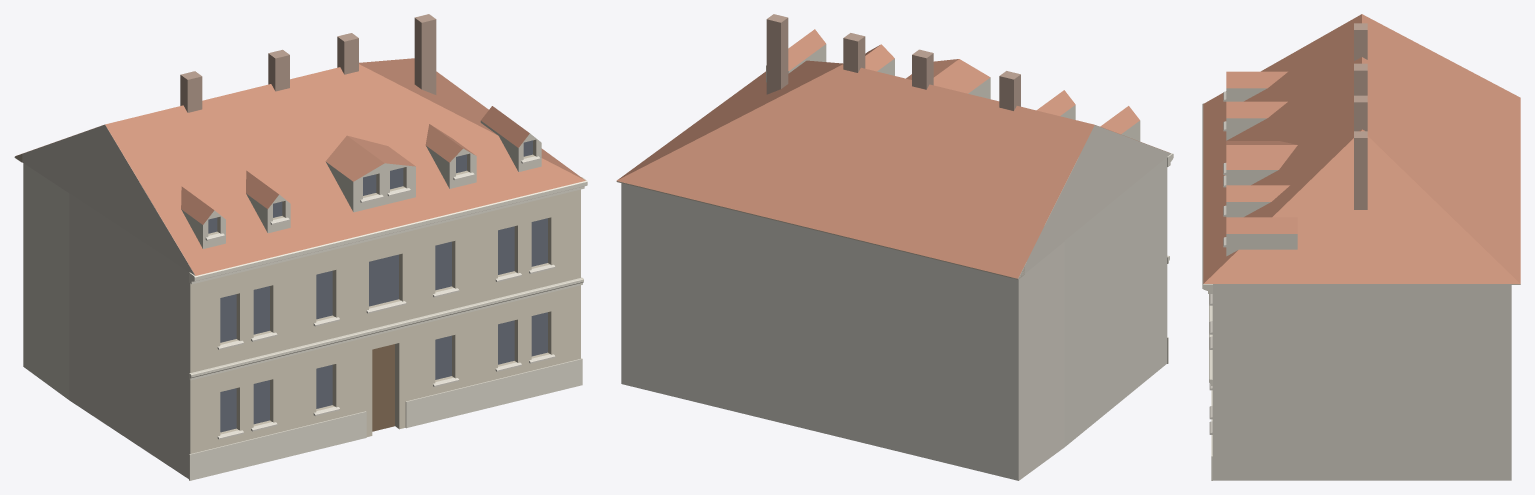
3 views of the same model, side by side, from view 1: azimuth 30°, elevation 25°; view 2: azimuth 150°, elevation 25°; view 3: azimuth 270°, elevation 25° (orthographic). The views are drawn at different scales.
Visible parts, largest first — view 1: CP_410_Masonry, CP_410_Roof, CP_410_Gable_L_gable, CP_410_Cornice_plinth_1, CP_410_Cornice_plinth_0, CP_410_Dormer_D_c, CP_410_Cornice_main_0, CP_410_Cornice_string_0, CP_410_Dormer_D_d, CP_410_Dormer_D_e, CP_410_Chimney_3, CP_410_Dormer_D_a (+4 smaller); view 2: CP_410_Masonry, CP_410_Roof, CP_410_Gable_L_gable, CP_410_Chimney_3, CP_410_Dormer_D_c, CP_410_Dormer_D_e, CP_410_Chimney_2, CP_410_Dormer_D_a, CP_410_Chimney_1, CP_410_Chimney_0, CP_410_Dormer_D_d, CP_410_Roof_EaveClosure_2 (+1 smaller); view 3: CP_410_Roof, CP_410_Masonry, CP_410_Dormer_D_c, CP_410_Dormer_D_e, CP_410_Dormer_D_d, CP_410_Dormer_D_b, CP_410_Dormer_D_a, CP_410_Chimney_3, CP_410_Chimney_0, CP_410_Chimney_2, CP_410_Chimney_1, CP_410_Cornice_main_0.
Part boxes in pixels (left/top/right/bottom): CP_410_Masonry: left=23, top=163, right=580, bottom=478; CP_410_Roof: left=16, top=58, right=585, bottom=275; CP_410_Gable_L_gable: left=15, top=125, right=195, bottom=275; CP_410_Cornice_plinth_1: left=405, top=358, right=582, bottom=428; CP_410_Cornice_plinth_0: left=189, top=411, right=366, bottom=480; CP_410_Dormer_D_c: left=325, top=135, right=415, bottom=212; CP_410_Cornice_main_0: left=189, top=177, right=587, bottom=284; CP_410_Cornice_string_0: left=189, top=277, right=583, bottom=380; CP_410_Dormer_D_d: left=425, top=124, right=476, bottom=188; CP_410_Dormer_D_e: left=480, top=106, right=541, bottom=171; CP_410_Chimney_3: left=414, top=14, right=436, bottom=94; CP_410_Dormer_D_a: left=181, top=186, right=225, bottom=248; CP_410_Masonry: left=621, top=157, right=1167, bottom=480; CP_410_Roof: left=616, top=60, right=1169, bottom=278; CP_410_Gable_L_gable: left=1012, top=125, right=1170, bottom=279; CP_410_Chimney_3: left=766, top=14, right=788, bottom=94; CP_410_Dormer_D_c: left=906, top=59, right=990, bottom=99; CP_410_Dormer_D_e: left=766, top=29, right=826, bottom=82; CP_410_Chimney_2: left=843, top=33, right=865, bottom=72; CP_410_Dormer_D_a: left=1100, top=106, right=1140, bottom=141; CP_410_Chimney_1: left=912, top=49, right=933, bottom=89; CP_410_Chimney_0: left=999, top=71, right=1020, bottom=110; CP_410_Dormer_D_d: left=865, top=44, right=894, bottom=75; CP_410_Roof_EaveClosure_2: left=629, top=184, right=1024, bottom=279; CP_410_Roof: left=1203, top=14, right=1520, bottom=283; CP_410_Masonry: left=1212, top=284, right=1511, bottom=480; CP_410_Dormer_D_c: left=1226, top=141, right=1297, bottom=185; CP_410_Dormer_D_e: left=1226, top=217, right=1297, bottom=256; CP_410_Dormer_D_d: left=1226, top=185, right=1289, bottom=217; CP_410_Dormer_D_b: left=1226, top=101, right=1287, bottom=140; CP_410_Dormer_D_a: left=1226, top=71, right=1287, bottom=101; CP_410_Chimney_3: left=1354, top=131, right=1367, bottom=209; CP_410_Chimney_0: left=1354, top=23, right=1367, bottom=60; CP_410_Chimney_2: left=1354, top=95, right=1367, bottom=131; CP_410_Chimney_1: left=1354, top=63, right=1367, bottom=95; CP_410_Cornice_main_0: left=1202, top=103, right=1212, bottom=293.
Size of the model in its own units: 19.38 by 15 by 13.96.
